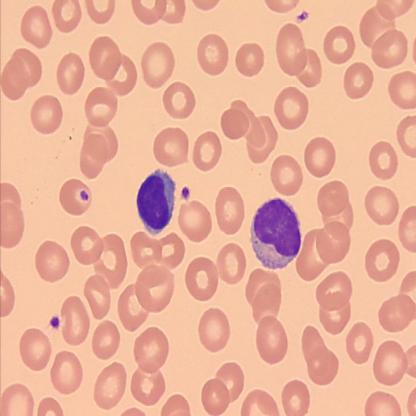Lymphocyte: (136, 167, 177, 236)
